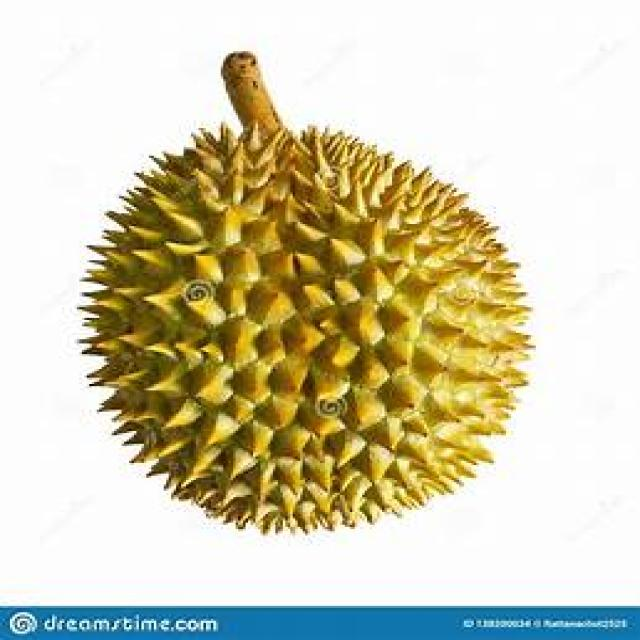mature: (84, 126, 531, 532)
